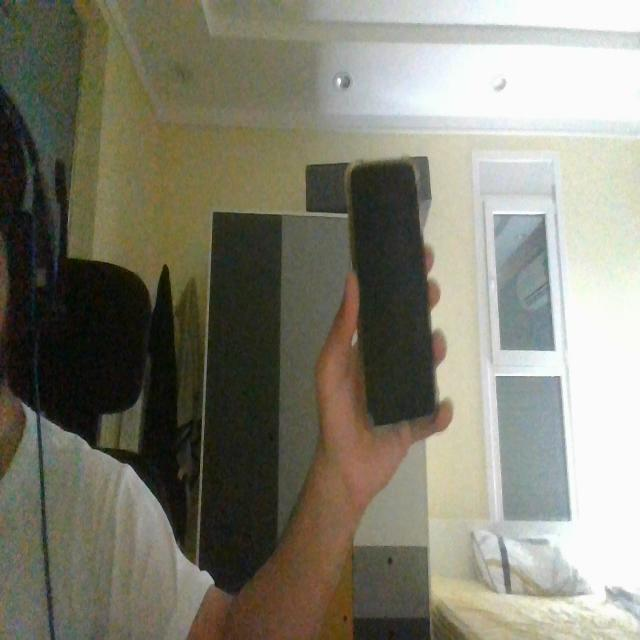Phone: (343, 155, 440, 435)
